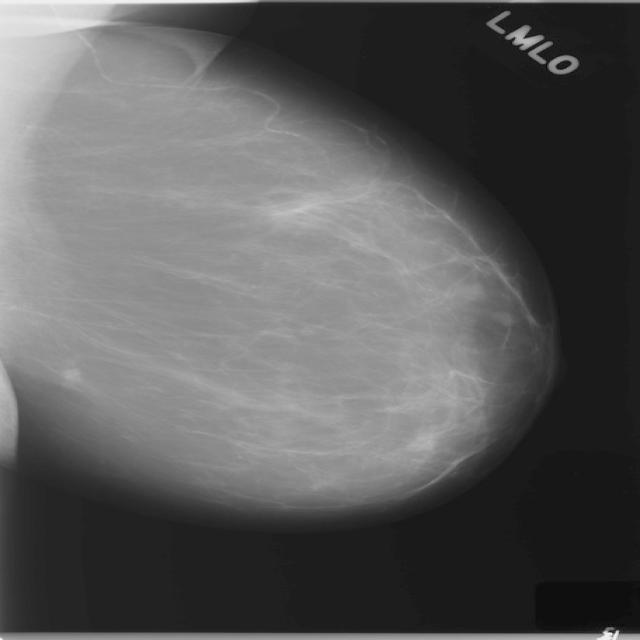tumour: (59, 367, 80, 383)
